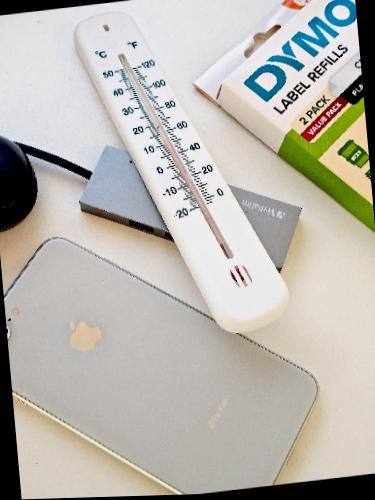thermo: (69, 0, 293, 334)
